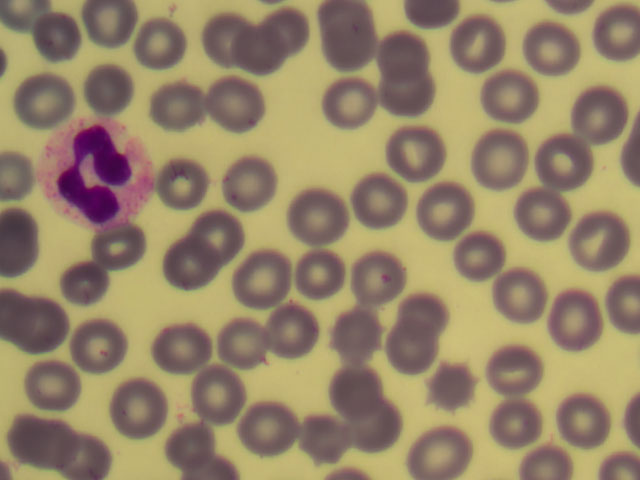RBC: (287, 184, 351, 246), (349, 169, 413, 231), (381, 120, 445, 182), (450, 10, 514, 72), (474, 58, 538, 120), (471, 119, 535, 181), (413, 184, 477, 246), (447, 223, 511, 285), (516, 181, 580, 243), (532, 138, 596, 200), (565, 76, 629, 138), (520, 20, 584, 82), (570, 199, 634, 261), (490, 258, 554, 320), (545, 290, 609, 352), (490, 340, 554, 402), (424, 356, 488, 418), (379, 317, 443, 379), (391, 279, 455, 341), (349, 233, 413, 295), (329, 299, 393, 361), (330, 350, 394, 412), (349, 393, 413, 455), (293, 412, 357, 474), (238, 397, 302, 459), (548, 388, 612, 450), (485, 393, 549, 455), (411, 418, 475, 480), (27, 9, 85, 67), (21, 67, 79, 125), (82, 55, 140, 113), (82, 1, 140, 59), (126, 15, 184, 73), (153, 76, 211, 134), (202, 76, 260, 134), (193, 15, 251, 73), (225, 24, 283, 82), (256, 4, 314, 62), (316, 73, 374, 131), (317, 9, 375, 67), (373, 24, 431, 82), (381, 71, 439, 129), (223, 153, 281, 211), (158, 152, 216, 210), (196, 202, 254, 260), (165, 233, 223, 291), (98, 216, 156, 274), (59, 252, 117, 310), (12, 299, 70, 357), (78, 315, 136, 373), (33, 357, 91, 415), (9, 409, 67, 467), (56, 422, 114, 480), (107, 386, 165, 444), (153, 317, 211, 375), (189, 361, 247, 419), (164, 422, 222, 480), (210, 313, 272, 366), (260, 303, 322, 356), (236, 253, 298, 306), (292, 246, 354, 299)
WBC: (34, 116, 158, 223)
